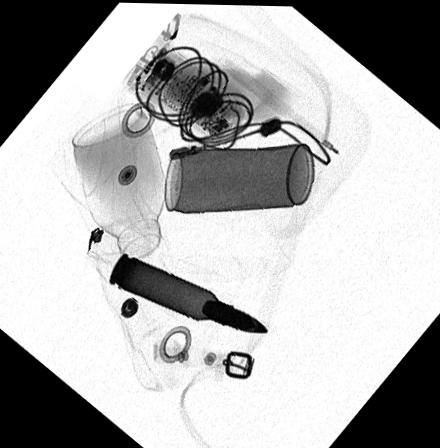Bullet: (107, 251, 269, 332)
